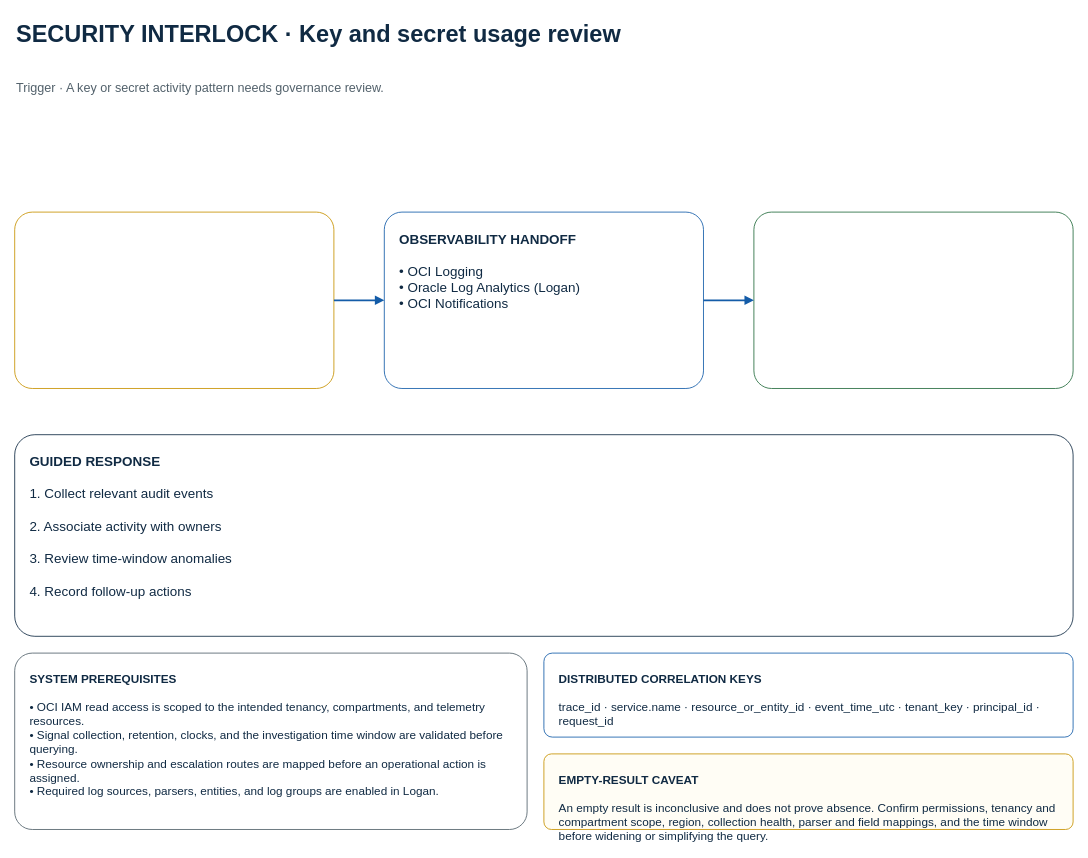
This 1088x858 diagram has some shape labels left out. The shapes that lost their labels are listed below. From the top down, each one's box as (x1, y1, x2, y2) in pixels, then its label:
(14, 211, 334, 388): SOURCE EVIDENCE • Audit events • Vault context • Application access signals
(753, 211, 1073, 388): OPERATIONAL OUTCOME • Provide an auditable view of sensitive credential use.
